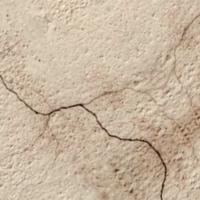crack: (1, 66, 171, 197)
